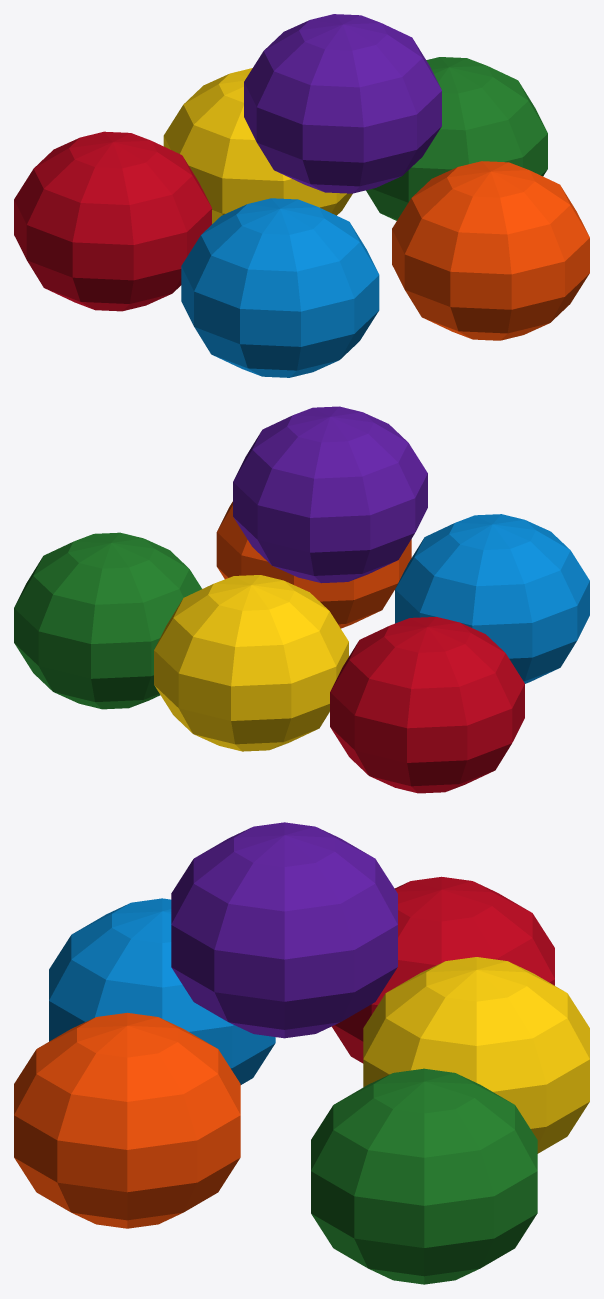
Rendered from balinhas.obj.
3 views of the same model, one above another, from view 1: azimuth 30°, elevation 25°; view 2: azimuth 150°, elevation 25°; view 3: azimuth 270°, elevation 25° (orthographic). The views are drawn at different scales.
Parts seen in each view (by area): view 1: Rocklet_3, Rocklet_5, Rocklet_4, Rocklet_0, Rocklet_2, Rocklet_1; view 2: Rocklet_5, Rocklet_0, Rocklet_1, Rocklet_2, Rocklet_3, Rocklet_4; view 3: Rocklet_2, Rocklet_5, Rocklet_4, Rocklet_1, Rocklet_3, Rocklet_0.
Part boxes in pixels (x1=…): Rocklet_3: x1=181, y1=198, x2=379, y2=377; Rocklet_5: x1=244, y1=14, x2=441, y2=193; Rocklet_4: x1=392, y1=161, x2=589, y2=340; Rocklet_0: x1=14, y1=131, x2=211, y2=311; Rocklet_2: x1=366, y1=57, x2=547, y2=220; Rocklet_1: x1=163, y1=68, x2=352, y2=223; Rocklet_5: x1=233, y1=406, x2=427, y2=583; Rocklet_0: x1=330, y1=616, x2=524, y2=793; Rocklet_1: x1=154, y1=575, x2=348, y2=751; Rocklet_2: x1=14, y1=532, x2=201, y2=709; Rocklet_3: x1=395, y1=514, x2=589, y2=683; Rocklet_4: x1=216, y1=501, x2=411, y2=628; Rocklet_2: x1=311, y1=1068, x2=537, y2=1284; Rocklet_5: x1=171, y1=822, x2=397, y2=1038; Rocklet_4: x1=14, y1=1012, x2=240, y2=1228; Rocklet_1: x1=363, y1=957, x2=589, y2=1153; Rocklet_3: x1=49, y1=898, x2=275, y2=1084; Rocklet_0: x1=331, y1=876, x2=554, y2=1063.
Bounding box in the file's own units: 0.793 × 0.43 × 0.6596.
